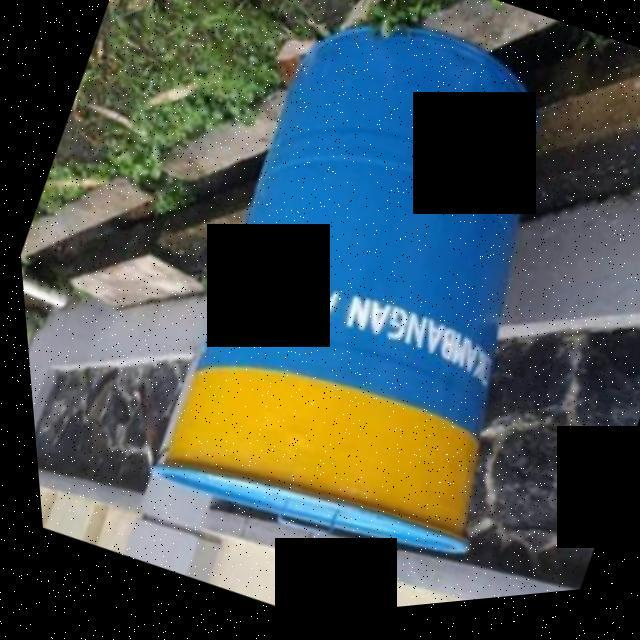bin: (83, 0, 640, 634)
